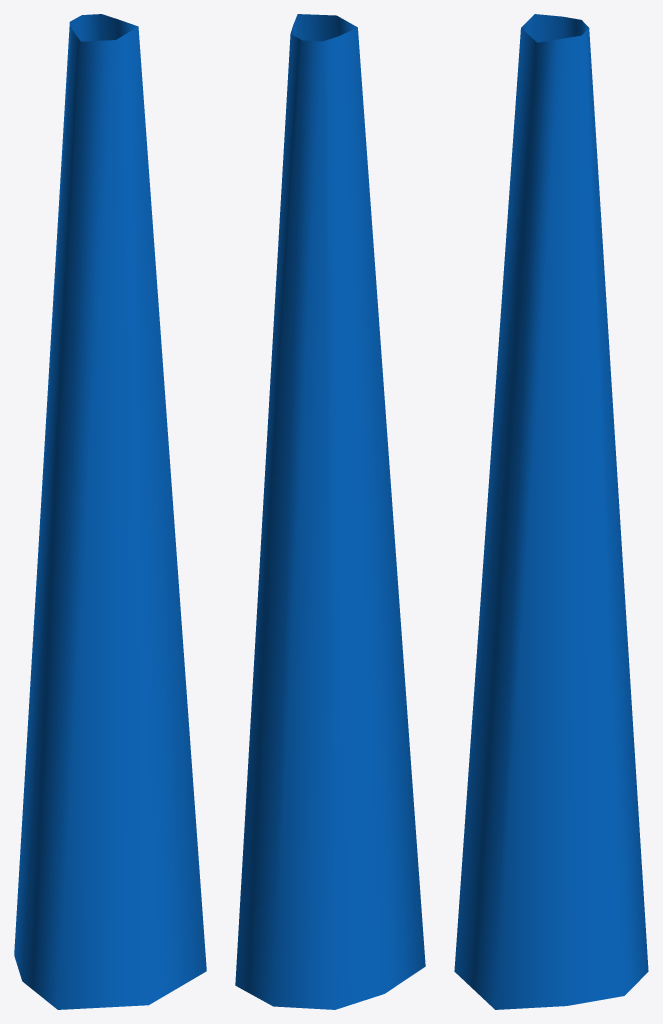
File: back.fbx
3 views of the same model, side by side, from view 1: azimuth 30°, elevation 25°; view 2: azimuth 150°, elevation 25°; view 3: azimuth 270°, elevation 25° (orthographic).
Visible parts, largest first — view 1: screen; view 2: screen; view 3: screen.
Part boxes in pixels (x1,y1,x2,y2): screen: (14,14,206,1009); screen: (235,14,425,1009); screen: (454,14,648,1009).
Bounding box in the file's own units: 4018 × 23862 × 4447.
1 material, 1 textured.
